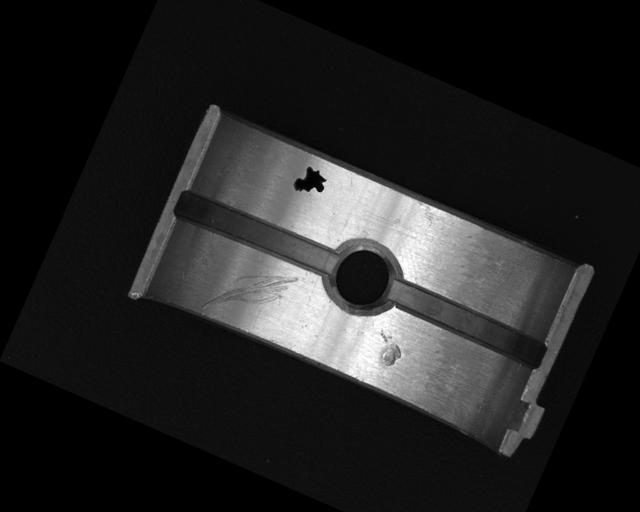blot: (290, 162, 330, 201)
bruise: (369, 328, 409, 370)
gap: (172, 185, 344, 285), (383, 277, 549, 371)
hole: (316, 229, 409, 323)
nick: (200, 246, 298, 339)
